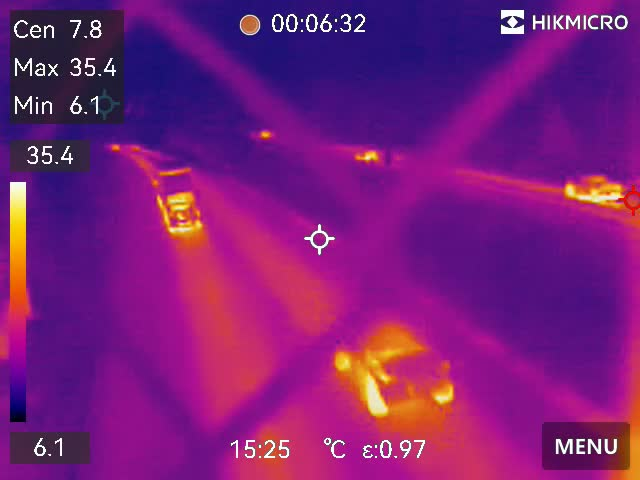heavyTruck: (152, 163, 207, 237)
vehicle: (566, 169, 632, 203)
